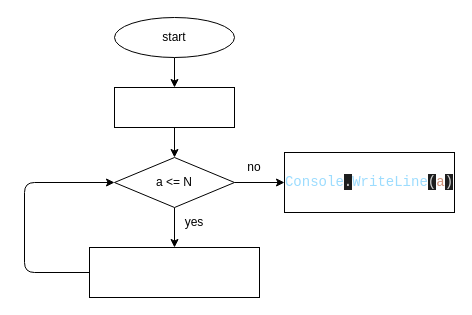
Some shapes in this 472 by 315 pixel diagram are drawn without their labels. The shapes that lost their labels are listed below. From the top down, each one's box as (x1, y1, x2, y2) in pixels, then its label:
(114, 86, 234, 128): N a = 2
(88, 246, 260, 298): Console . WriteLine ( a ) a +=2
